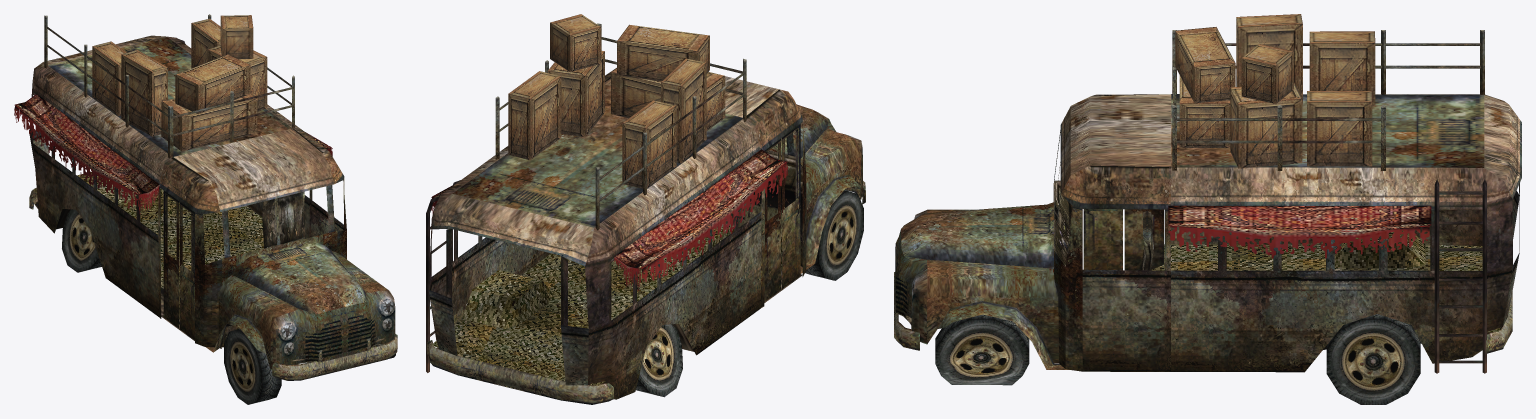
The model's file is Nbus1X.glb.
3 renders of one model, left to right at view 1: azimuth 30°, elevation 25°; view 2: azimuth 150°, elevation 25°; view 3: azimuth 270°, elevation 25°, orthographic. The views are drawn at different scales.
Parts seen in each view (by area): view 1: _Nbus1X; view 2: _Nbus1X; view 3: _Nbus1X.
Part boxes in pixels (x1,y1,x2,y2): _Nbus1X: (14, 14, 397, 404); _Nbus1X: (426, 14, 865, 404); _Nbus1X: (894, 14, 1521, 404).
Size of the model in its own units: 3.63 by 4.78 by 8.12.
4 materials, 4 textured.
